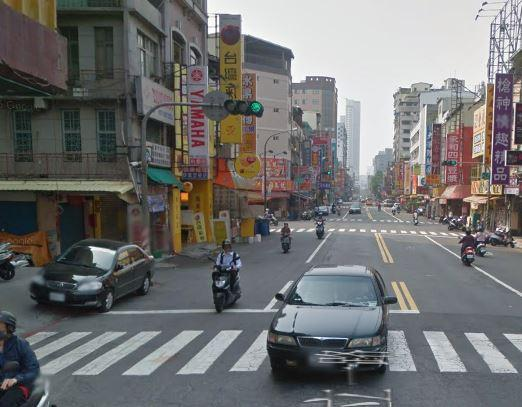car: (268, 259, 395, 381), (28, 234, 157, 314)
green_traffic_light: (224, 98, 266, 116)
motorcycle: (205, 256, 244, 311), (457, 225, 478, 270), (273, 214, 294, 258), (312, 209, 329, 241)
